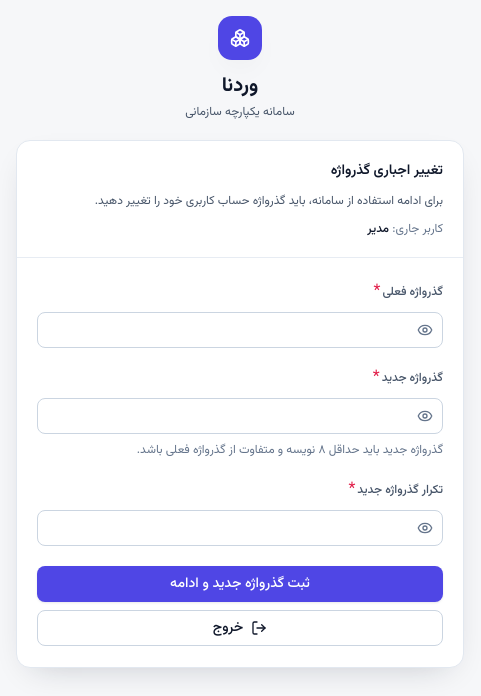
Test: Forced first-login password change flow › surfaces backend current-password validation errors in Persian and clears password inputs
The width and height of the screenshot is (481, 696).
In the password field labelled "گذرواژه فعلی": (240, 330) x1=37 y1=312 x2=443 y2=348, type "wrong-current-password"
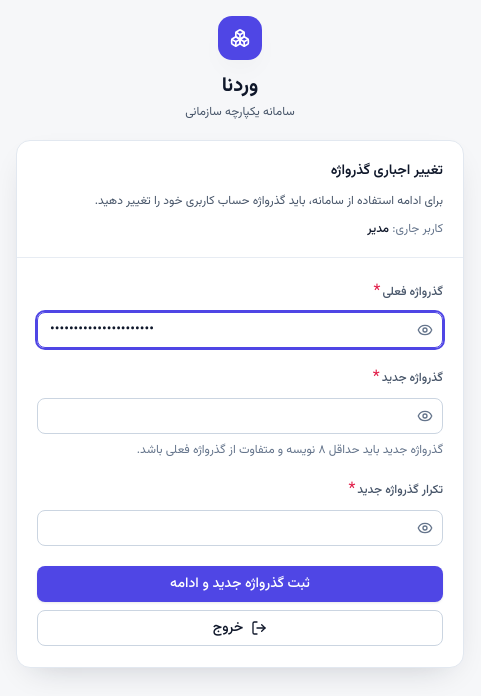
In the password field labelled "گذرواژه جدید": (240, 416) x1=37 y1=398 x2=443 y2=434, type "rotated-strong-secret-99"
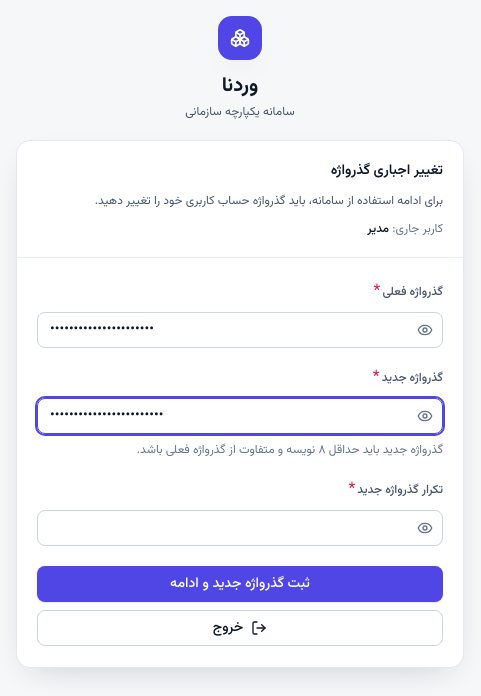
In the password field labelled "تکرار گذرواژه جدید": (240, 528) x1=37 y1=510 x2=443 y2=546, type "rotated-strong-secret-99"
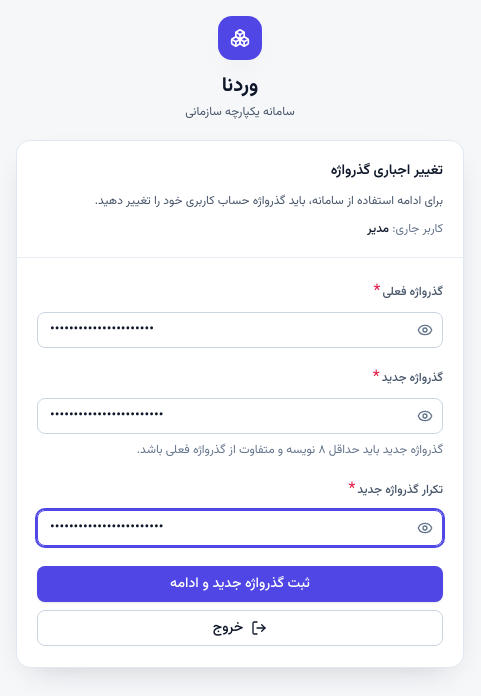
Click the button "ثبت گذرواژه جدید و ادامه": (240, 584) x1=37 y1=566 x2=443 y2=602
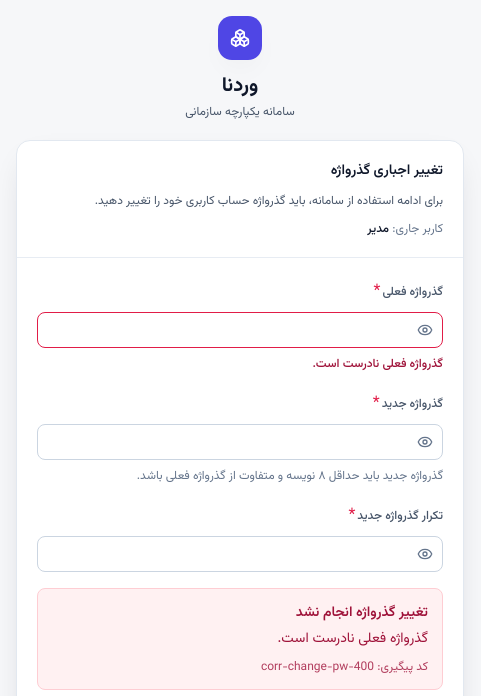
Now the text "تغییر گذرواژه انجام نشد" is shown, box x1=296 y1=602 x2=428 y2=624
Now the text "corr-change-pw-400" is shown, box x1=261 y1=658 x2=374 y2=676
Now the password field labelled "گذرواژه فعلی" is empty, box x1=37 y1=312 x2=443 y2=348
